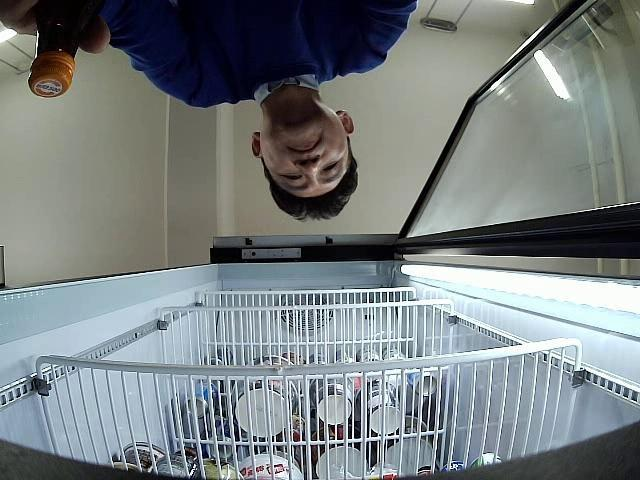17_vita500: (29, 0, 80, 97)
